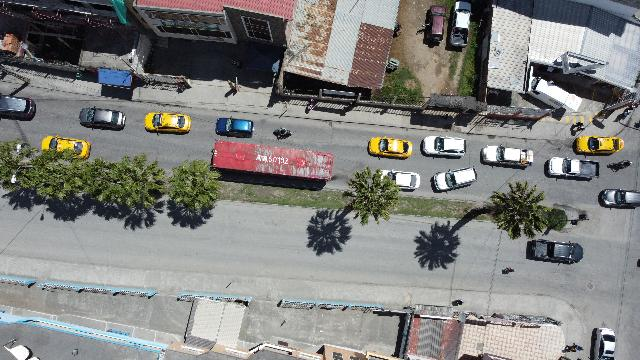Vehiculo: (526, 240, 584, 264), (544, 157, 600, 181), (431, 167, 477, 193), (41, 136, 90, 160), (481, 145, 534, 167), (79, 106, 125, 130), (420, 136, 466, 158), (145, 112, 191, 134), (450, 1, 472, 47), (0, 94, 36, 121), (368, 137, 412, 159), (376, 170, 420, 192), (573, 136, 623, 154), (598, 189, 640, 209), (589, 328, 615, 360), (424, 6, 446, 42), (216, 118, 254, 138)
